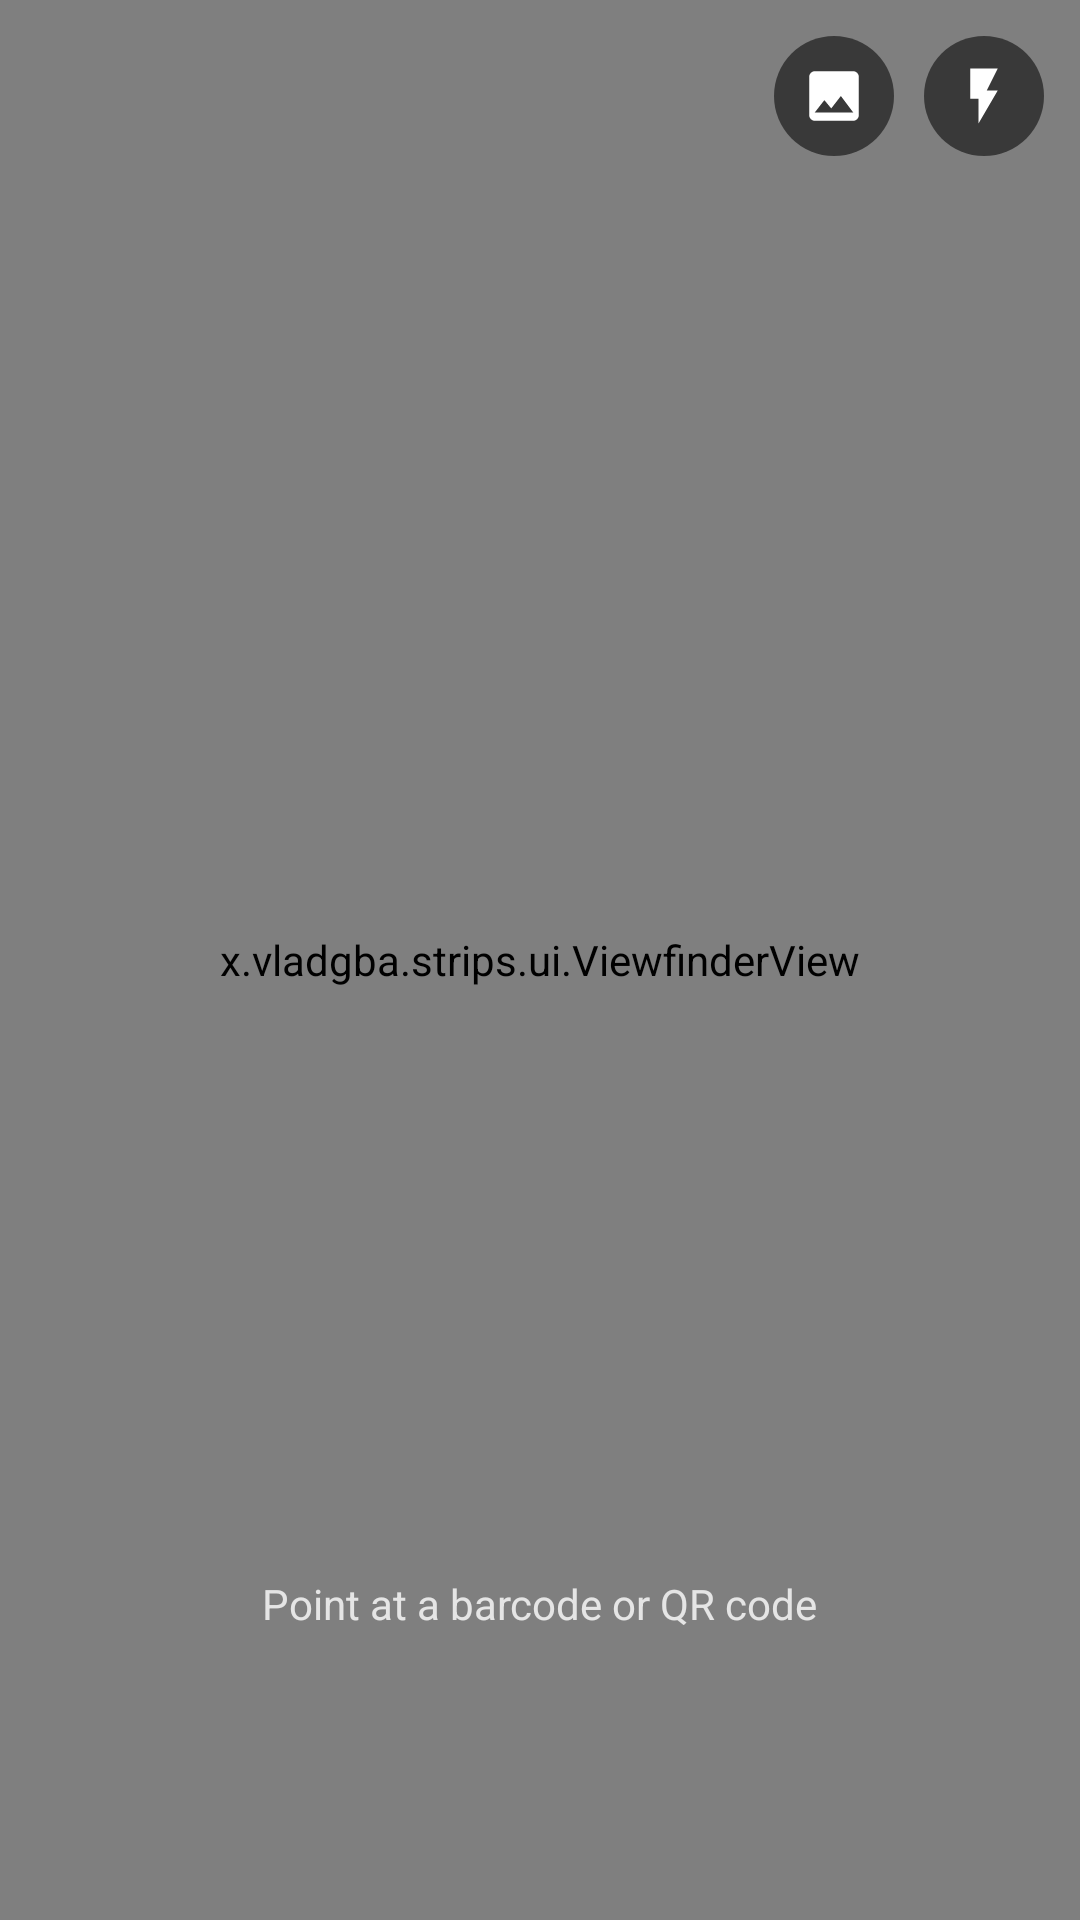

Icon bounding boxes for this 1080w x 1920h phone screenshot, format bbox=[x1, y1, x2, y2]:
Scan image: bbox=[774, 36, 894, 156]
Torch: bbox=[924, 36, 1044, 156]
